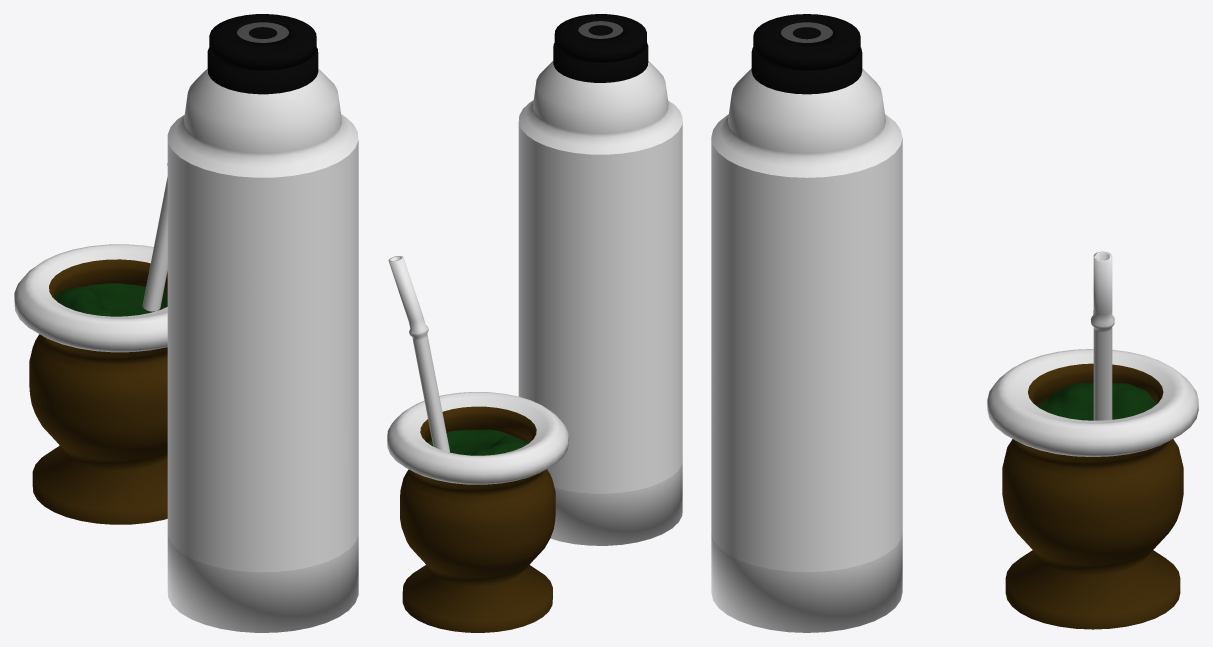
The model's file is Mates.glb.
3 views of the same model, side by side, from view 1: azimuth 30°, elevation 25°; view 2: azimuth 150°, elevation 25°; view 3: azimuth 270°, elevation 25° (orthographic). The views are drawn at different scales.
Parts seen in each view (by area): view 1: Circle.001, Circle, Circle.003, Circle.002, Circle.004, Plane.001, BezierCircle, Circle.005; view 2: Circle.001, Circle.003, Circle, Circle.002, Circle.004, BezierCircle, Plane.001, Circle.005; view 3: Circle.001, Circle.003, Circle, Circle.002, Circle.004, BezierCircle, Plane.001.
Part boxes in pixels (bbox=[...]): Circle.001: bbox=[167, 138, 358, 572]; Circle: bbox=[167, 69, 358, 632]; Circle.003: bbox=[29, 259, 167, 524]; Circle.002: bbox=[14, 244, 167, 352]; Circle.004: bbox=[207, 14, 318, 94]; Plane.001: bbox=[55, 283, 167, 316]; BezierCircle: bbox=[142, 163, 167, 311]; Circle.005: bbox=[237, 22, 289, 42]; Circle.001: bbox=[518, 122, 682, 493]; Circle.003: bbox=[400, 406, 555, 632]; Circle: bbox=[518, 61, 682, 545]; Circle.002: bbox=[387, 392, 568, 484]; Circle.004: bbox=[553, 14, 648, 82]; BezierCircle: bbox=[388, 256, 449, 452]; Plane.001: bbox=[428, 429, 528, 486]; Circle.005: bbox=[578, 21, 623, 38]; Circle.001: bbox=[711, 138, 902, 572]; Circle.003: bbox=[1002, 363, 1183, 629]; Circle: bbox=[711, 68, 902, 632]; Circle.002: bbox=[987, 349, 1198, 456]; Circle.004: bbox=[751, 14, 862, 94]; BezierCircle: bbox=[1091, 251, 1114, 420]; Plane.001: bbox=[1036, 382, 1156, 420].
Size of the model in its own units: 2.28 by 6.47 by 5.1.
